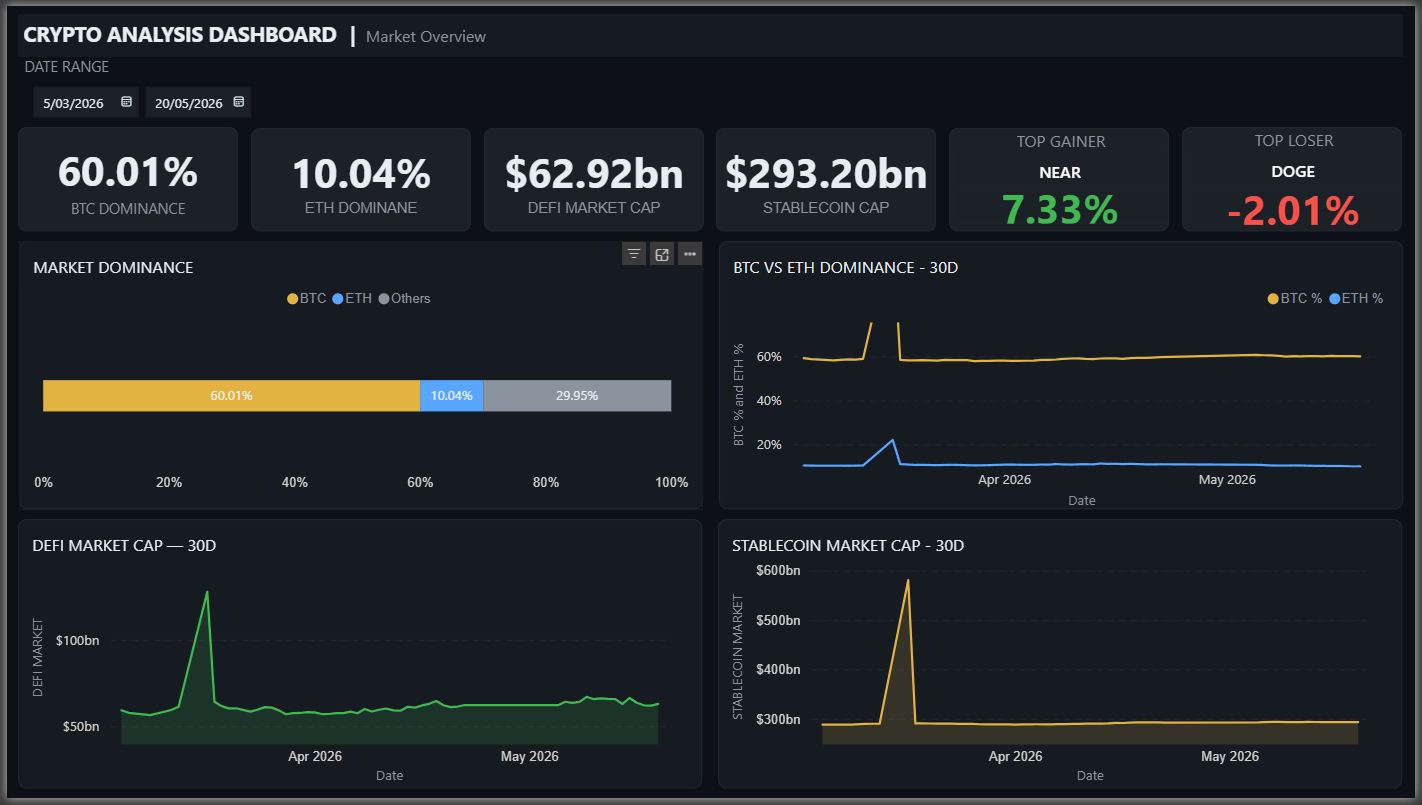

This screenshot's page, from the dashboard's own definition file:
{"tool":"powerbi","page":{"name":"Market Overview","canvas":[1280,720],"ordinal":0},"visuals":[{"type":"slicer","title":"DATE RANGE","fields":{"Values":["dim_date.Date"]},"box":[11,46,1258,63],"z":0},{"type":"card","fields":{"Values":["_Measures.Latest BTC Dominance"]},"box":[10,110,200,95],"z":1000},{"type":"hundredPercentStackedBarChart","title":"MARKET DOMINANCE","fields":{"Y":["_Measures.BTC Dominance Chart","_Measures.ETH Dominance Chart","_Measures.Others Dominance1"]},"box":[11,214,622,244],"z":2000},{"type":"card","fields":{"Values":["_Measures.Latest ETH Dominance"]},"box":[221.6,111.3,200,94.3],"z":3000},{"type":"card","fields":{"Values":["_Measures.Latest DeFi Market Cap"]},"box":[433.2,111.3,200,94.3],"z":4000},{"type":"card","fields":{"Values":["_Measures.Latest Stablecoin Cap"]},"box":[644.8,111.3,200,94.3],"z":5000},{"type":"lineChart","title":"BTC VS ETH DOMINANCE - 30D","fields":{"Category":["dim_date.Date"],"Y":["Sum(fact_global_market.global_btc_dominance)","Sum(fact_global_market.global_eth_dominance)"]},"box":[647,214,622,244],"z":6000},{"type":"areaChart","title":"DEFI MARKET CAP — 30D","fields":{"Category":["dim_date.Date"],"Y":["Sum(fact_global_market.global_defi_market_cap)"]},"box":[10,466,622,245],"z":7000},{"type":"areaChart","title":"STABLECOIN MARKET CAP - 30D","fields":{"Y":["Sum(fact_global_market.global_stablecoin_market_cap)"],"Category":["dim_date.Date"]},"box":[646,466,622,245],"z":8000},{"type":"cardVisual","title":"TOP GAINER","fields":{"Data":["_Measures.Top Performer Symbol","_Measures.Top Performer 24H"]},"box":[856.4,111.3,200,94.3],"z":9000},{"type":"cardVisual","title":"TOP LOSER","fields":{"Data":["_Measures.Worst Performer Symbol","_Measures.Worst Performer 24H"]},"box":[1068,110,200,95],"z":10000},{"type":"textbox","box":[10,7,1259,39],"z":11000}]}

Visuals, with their boxes in screenshot pixels (x1, y1, x2, y2), scaled from the page's 1280x720 canvas onto the 1422x805 screenshot:
"DATE RANGE" slicer: 12:51:1410:122
card - _Measures.Latest BTC Dominance: 11:123:233:229
"MARKET DOMINANCE" hundredPercentStackedBarChart: 12:239:703:512
card - _Measures.Latest ETH Dominance: 246:124:468:230
card - _Measures.Latest DeFi Market Cap: 481:124:703:230
card - _Measures.Latest Stablecoin Cap: 716:124:939:230
"BTC VS ETH DOMINANCE - 30D" lineChart: 719:239:1410:512
"DEFI MARKET CAP — 30D" areaChart: 11:521:702:795
"STABLECOIN MARKET CAP - 30D" areaChart: 718:521:1409:795
"TOP GAINER" cardVisual: 951:124:1174:230
"TOP LOSER" cardVisual: 1186:123:1409:229
textbox: 11:8:1410:51
